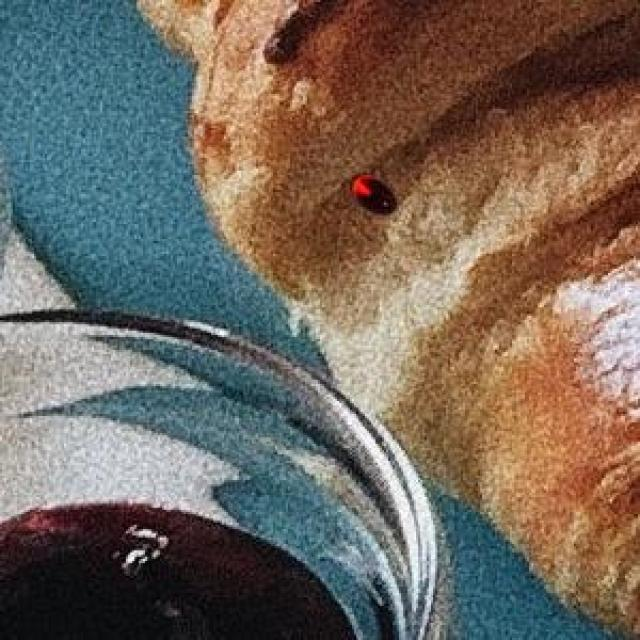Medicol: (346, 158, 405, 230)
